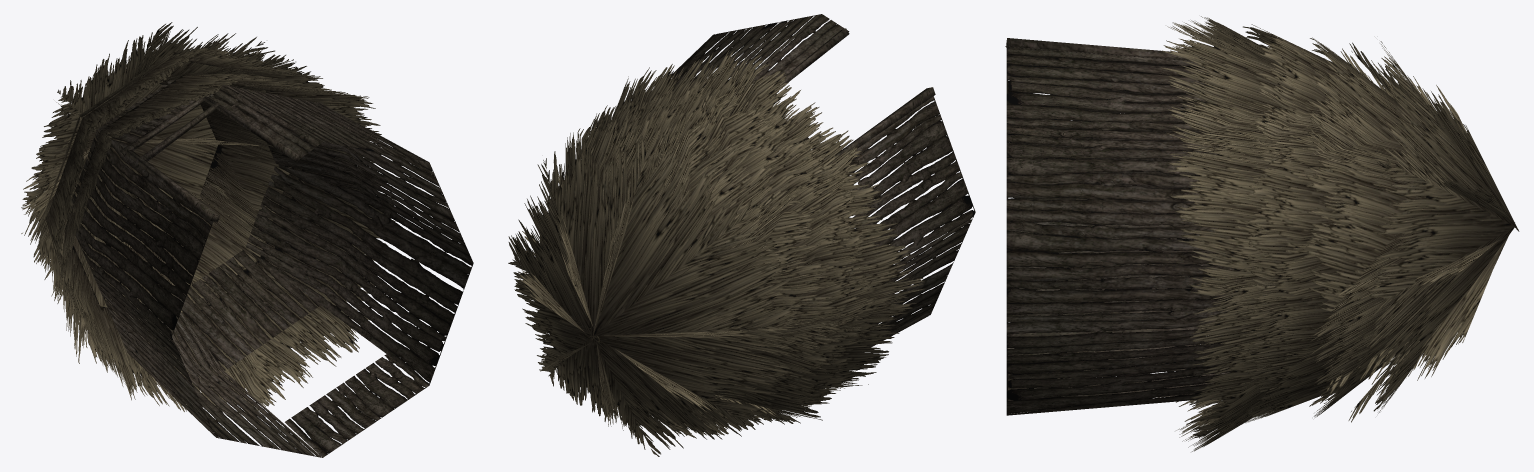
Rendered from MEP_Shack_06_LOD_01.fbx.
3 renders of one model, left to right at view 1: azimuth 30°, elevation 25°; view 2: azimuth 150°, elevation 25°; view 3: azimuth 270°, elevation 25°, orthographic. The views are drawn at different scales.
Parts seen in each view (by area): view 1: MEP_Shack_06_LOD_01; view 2: MEP_Shack_06_LOD_01; view 3: MEP_Shack_06_LOD_01.
Part boxes in pixels (<box>): MEP_Shack_06_LOD_01: <box>21,22,473,457</box>; MEP_Shack_06_LOD_01: <box>508,14,975,456</box>; MEP_Shack_06_LOD_01: <box>1005,16,1519,451</box>.
Size of the model in its own units: 6.56 by 6.43 by 7.41.
